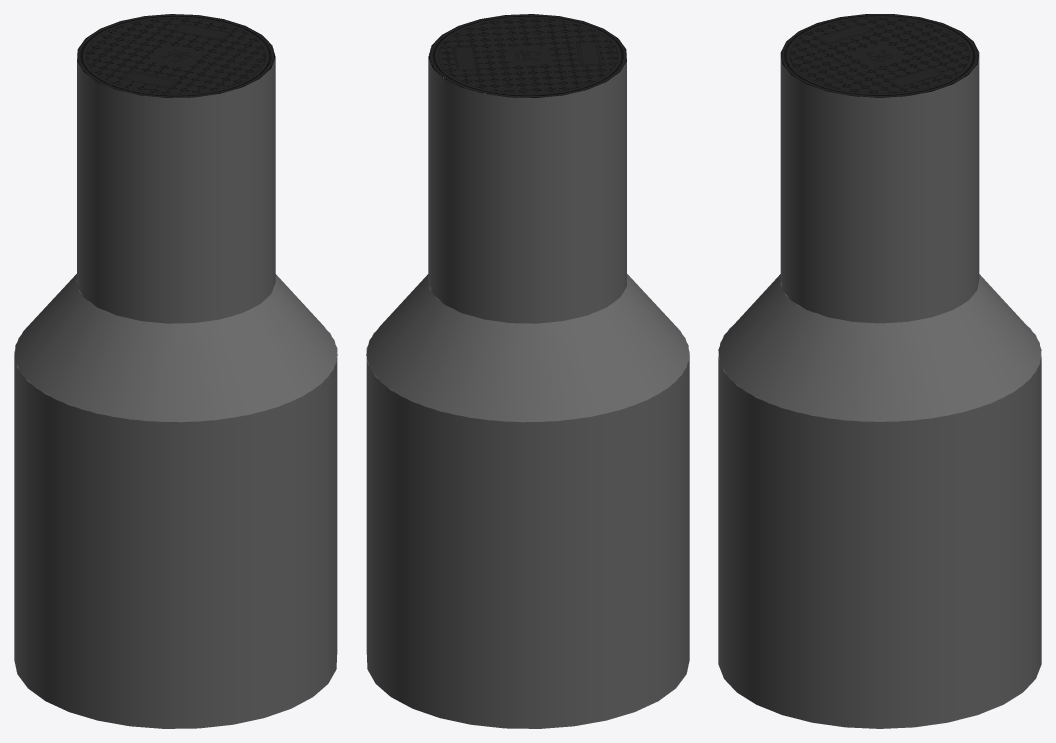
3 renders of one model, left to right at view 1: azimuth 30°, elevation 25°; view 2: azimuth 150°, elevation 25°; view 3: azimuth 270°, elevation 25°, orthographic.
Parts seen in each view (by area): view 1: node_id8.001; view 2: node_id8.001; view 3: node_id8.001.
Part boxes in pixels (x1,y1,x2,y2): node_id8.001: (14, 14, 337, 728); node_id8.001: (366, 14, 689, 728); node_id8.001: (718, 14, 1041, 728).
Size of the model in its own units: 0.2505 by 0.5165 by 0.2502.
2 materials, 1 textured.
